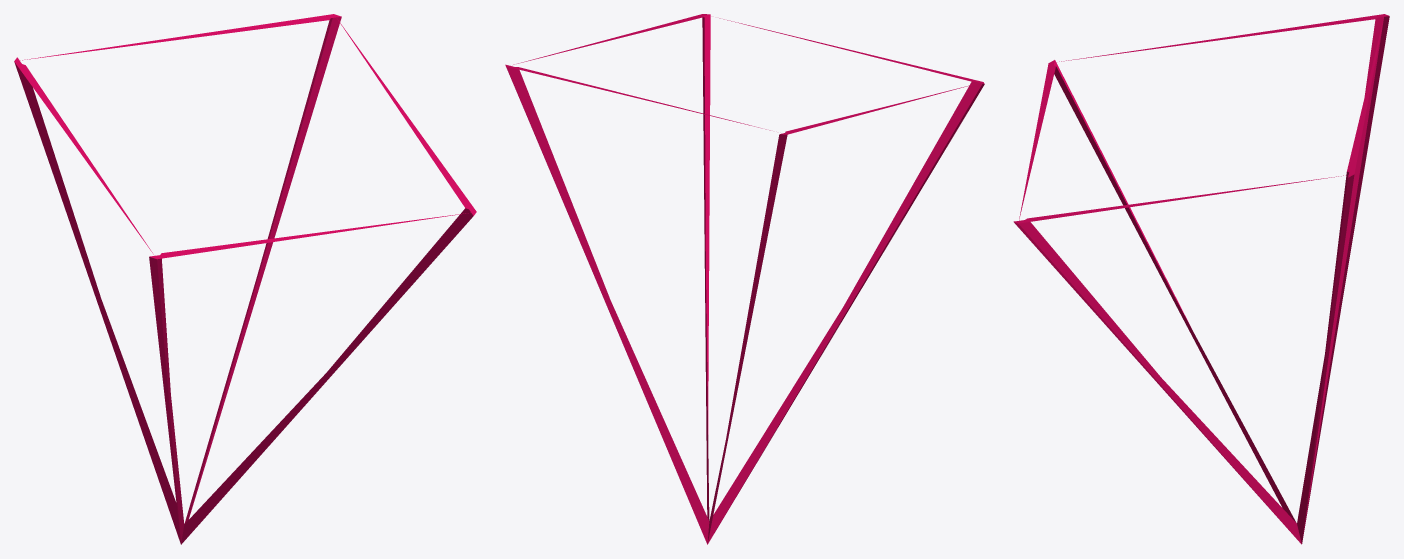
File: synthetic-pre-stream3r-scene.glb
The picture shows the model from 3 angles, left to right: view 1: azimuth 30°, elevation 25°; view 2: azimuth 150°, elevation 25°; view 3: azimuth 270°, elevation 25°; orthographic projection. The views are drawn at different scales.
Parts seen in each view (by area): view 1: world; view 2: world; view 3: world.
Boxes of the visible parts, x1,y1,x2,y2 form: world: [14, 14, 476, 544]; world: [505, 14, 984, 544]; world: [1013, 14, 1389, 544].
Size of the model in its own units: 0.00103 by 0.00138 by 0.001.
